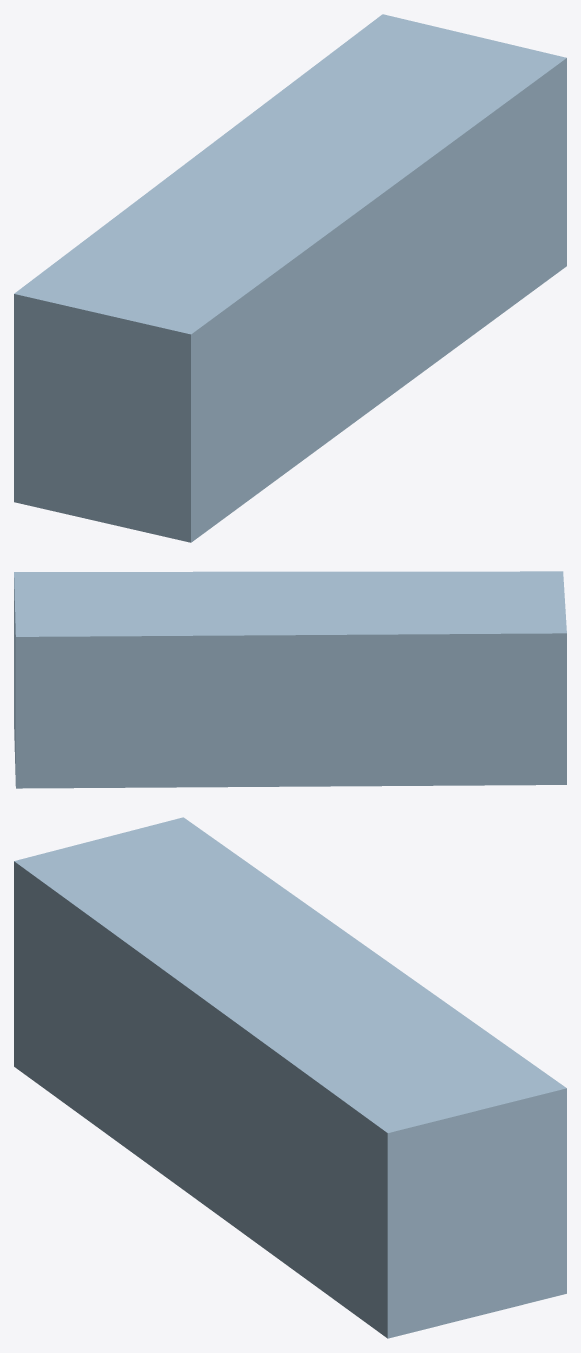
File: osm_way_1173057053.glb
3 renders of one model, top to bottom at view 1: azimuth 30°, elevation 25°; view 2: azimuth 150°, elevation 25°; view 3: azimuth 270°, elevation 25°, orthographic. The views are drawn at different scales.
Parts seen in each view (by area): view 1: osm_way_1173057053; view 2: osm_way_1173057053; view 3: osm_way_1173057053.
Part boxes in pixels (x1,y1,x2,y2): osm_way_1173057053: [14, 14, 566, 542]; osm_way_1173057053: [14, 571, 566, 788]; osm_way_1173057053: [14, 817, 566, 1338].
Size of the model in its own units: 73.22 by 22.2 by 54.15.
